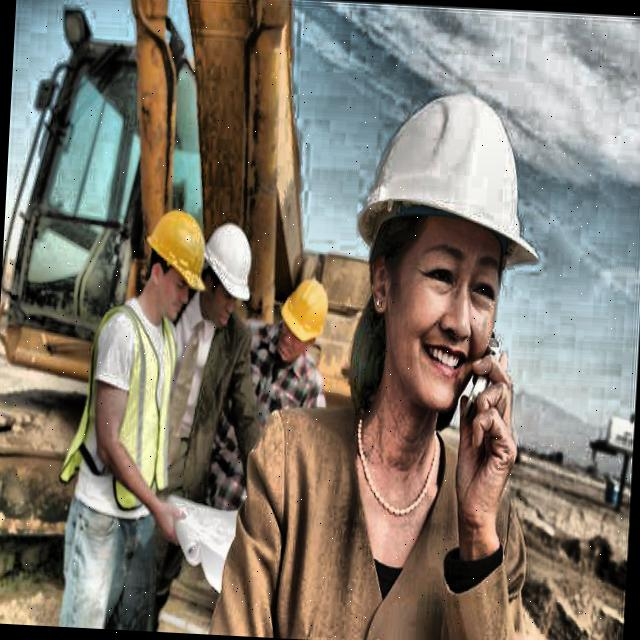helmet: (329, 56, 554, 444), (128, 190, 219, 338), (192, 204, 266, 339), (274, 272, 334, 374)
